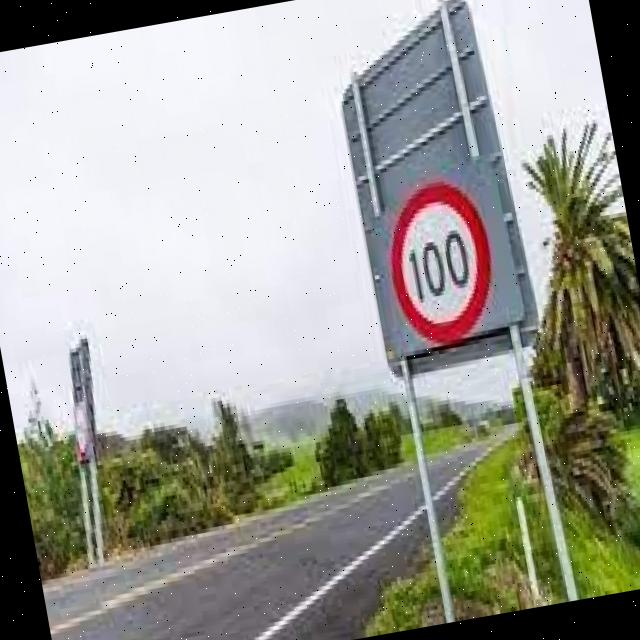speed_limit_100: (376, 174, 502, 351)
